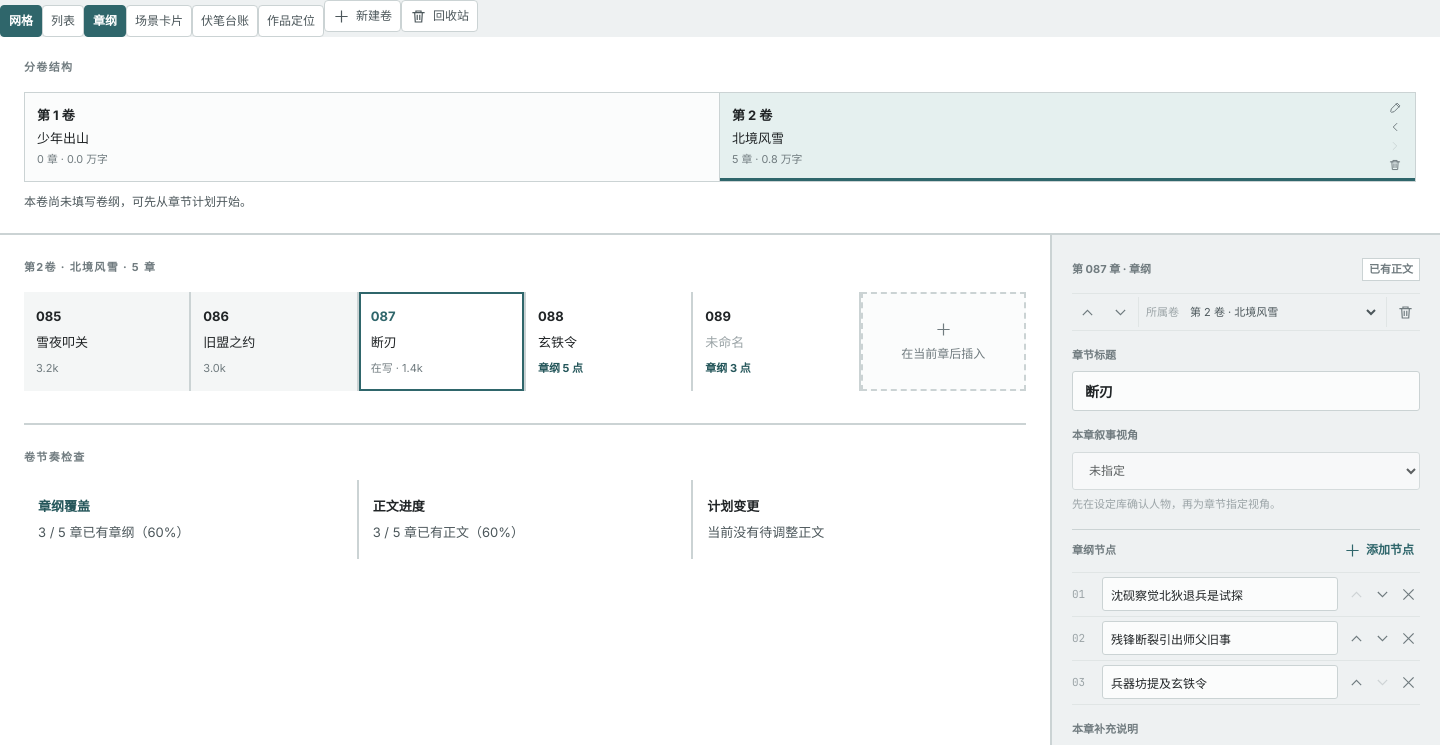
Test: continuous outline editing › opens the project hook ledger from the outline toolbar
Step 1. Click the button "伏笔台账" → (225, 21), box [192, 5, 258, 37]
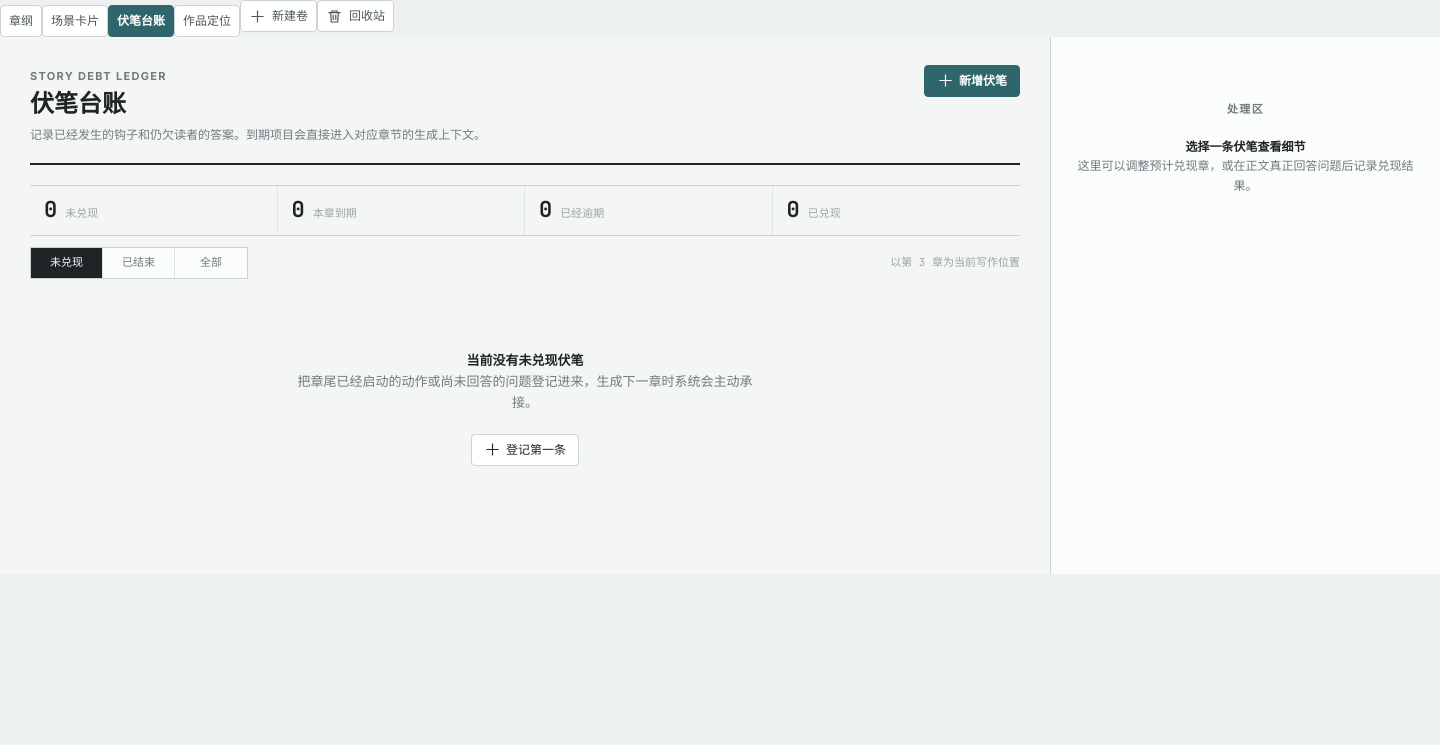
Expected: the text "伏笔台账" is shown, [108, 5, 174, 37]
Now the text "当前没有未兑现伏笔" is shown, box [466, 352, 584, 368]
